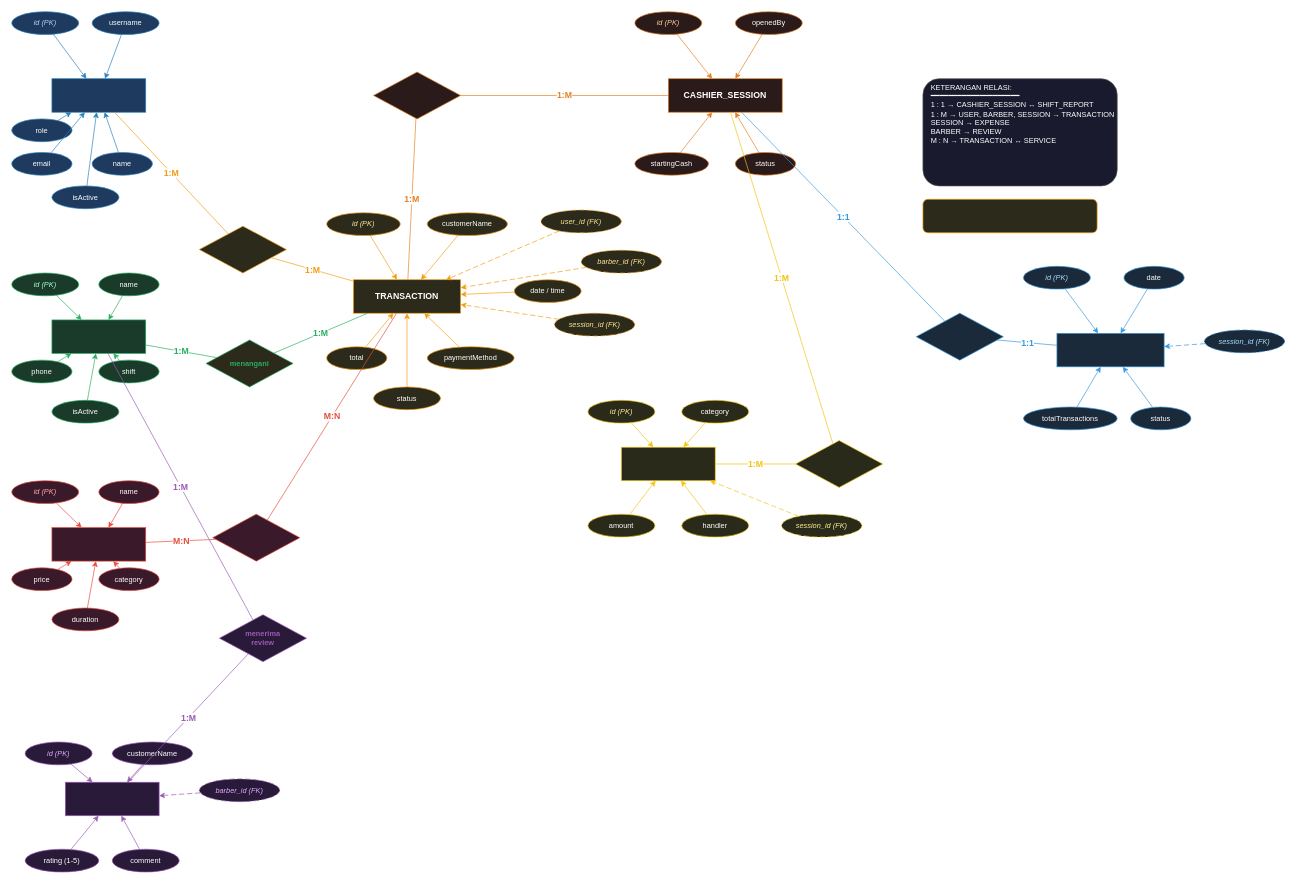
Some shapes in this 1296 by 884 pixel diagram are drawn without their labels. Here are the shapes that lost their labels. From the top down, the box of each, then its label:
(51, 78, 146, 112): USER
(373, 71, 461, 119): dalam sesi
(922, 199, 1097, 233): ▣ Ellipse putus-putus = Atribut FK (Foreign Key / Kunci Tamu)
(199, 225, 286, 273): melakukan
(51, 319, 146, 353): BARBER
(916, 313, 1003, 360): laporan sesi
(1056, 333, 1164, 367): SHIFT_REPORT
(621, 447, 715, 481): EXPENSE
(795, 440, 883, 487): pengeluaran
(51, 527, 146, 561): SERVICE
(212, 514, 300, 561): mencakup
(65, 782, 159, 816): REVIEW
